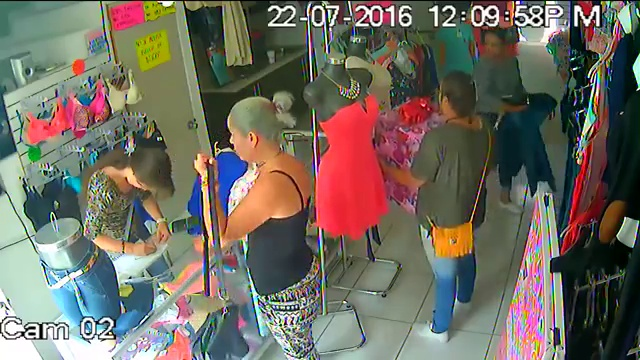face: (227, 120, 253, 159), (483, 33, 503, 55)
